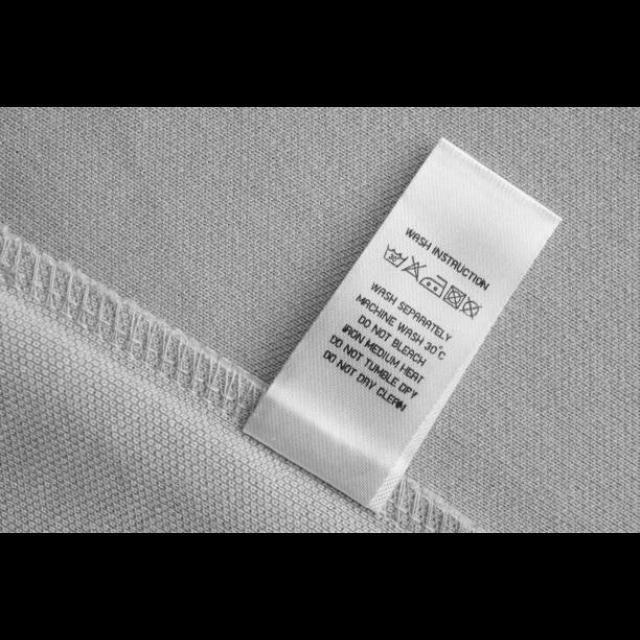30C: (382, 242, 410, 270)
DN_bleach: (400, 254, 428, 284)
DN_dry_clean: (457, 296, 485, 322)
DN_tumble_dry: (440, 283, 468, 311)
iron_medium: (416, 272, 450, 300)
